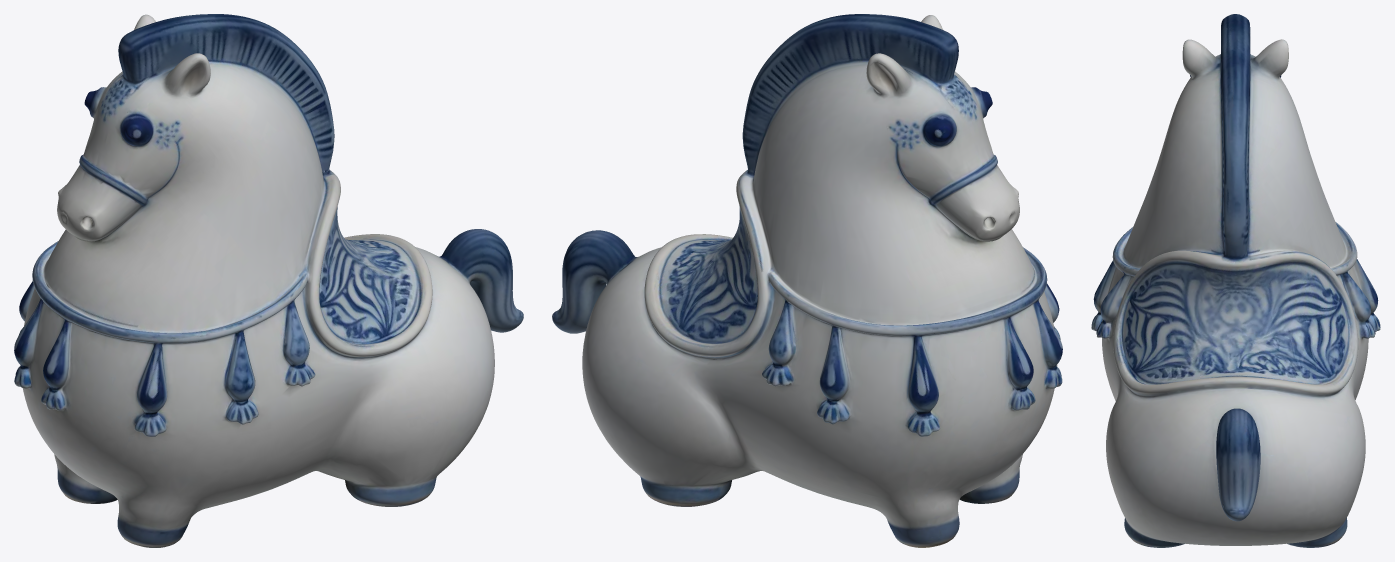
Rendered from 马摆件.glb.
The picture shows the model from 3 angles, left to right: view 1: azimuth 30°, elevation 25°; view 2: azimuth 150°, elevation 25°; view 3: azimuth 270°, elevation 25°; orthographic projection. The views are drawn at different scales.
Visible parts, largest first — view 1: node_0; view 2: node_0; view 3: node_0.
Boxes of the visible parts, left/top/right/bottom form: node_0: left=14, top=14, right=523, bottom=547; node_0: left=552, top=14, right=1062, bottom=547; node_0: left=1091, top=14, right=1380, bottom=547.
Size of the model in its own units: 1 by 0.9439 by 0.575.
1 material, 1 textured.
